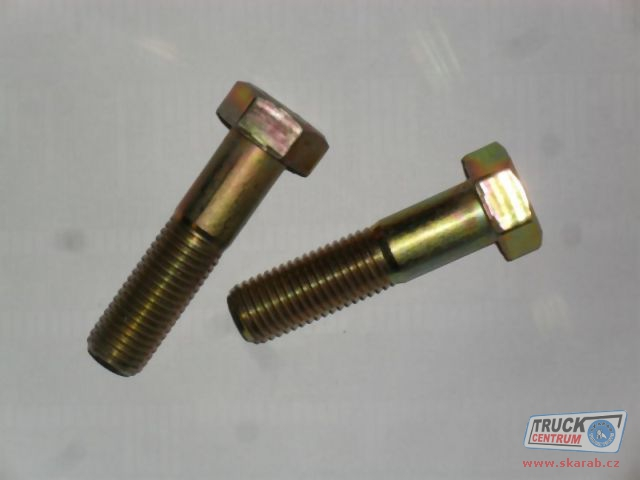screw: (86, 81, 328, 379), (227, 139, 544, 344)
